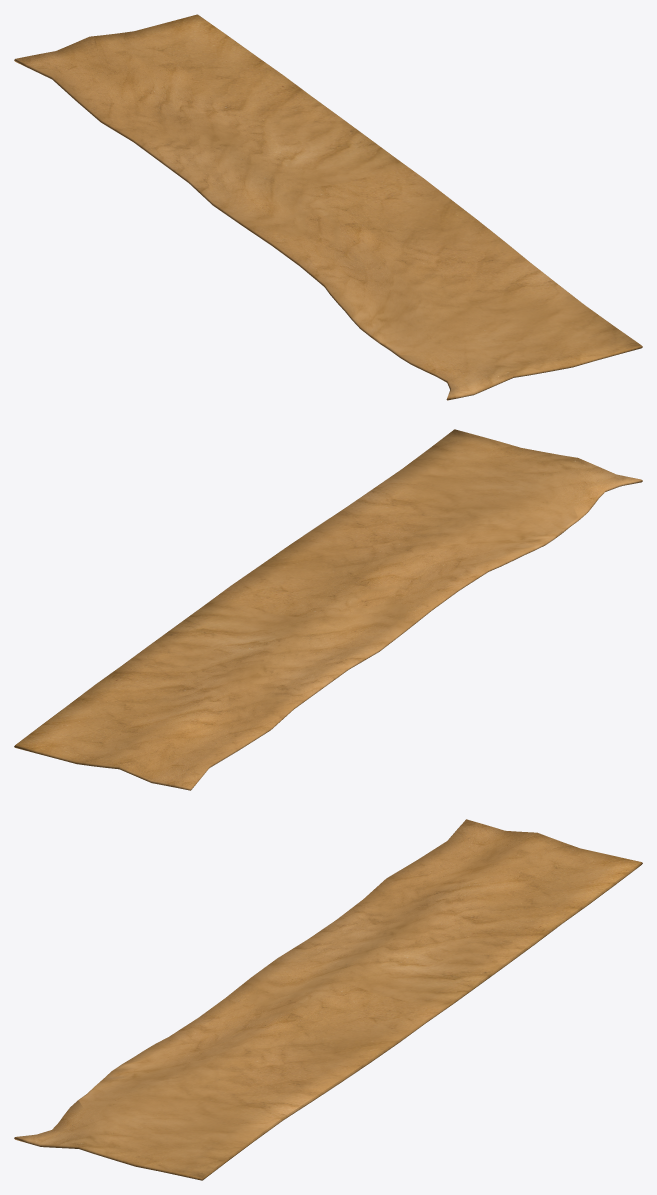
The model's file is CoastWater.fbx.
3 renders of one model, top to bottom at view 1: azimuth 30°, elevation 25°; view 2: azimuth 150°, elevation 25°; view 3: azimuth 330°, elevation 25°, orthographic. The views are drawn at different scales.
Parts seen in each view (by area): view 1: Plane; view 2: Plane; view 3: Plane.
Boxes of the visible parts, <box> form: Plane: <box>14,14,642,400</box>; Plane: <box>14,429,642,790</box>; Plane: <box>14,819,642,1180</box>.
Size of the model in its own units: 6017 by 1572 by 98.4.
